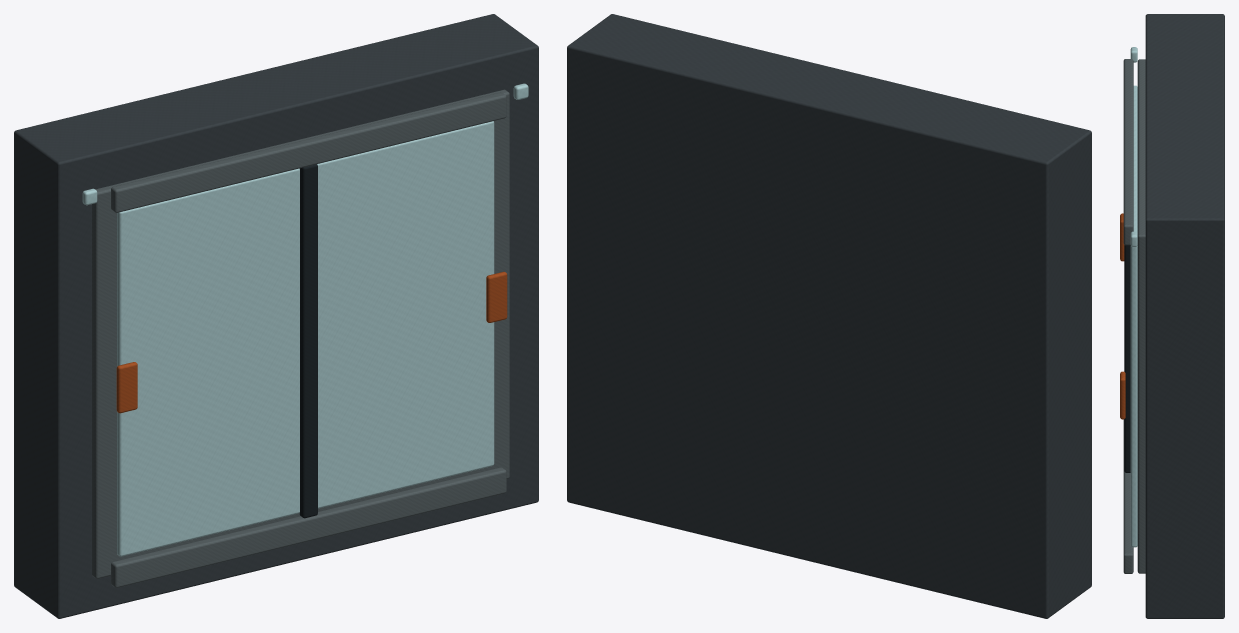
Rendered from ObservationWindow.fbx.
3 renders of one model, left to right at view 1: azimuth 30°, elevation 25°; view 2: azimuth 150°, elevation 25°; view 3: azimuth 270°, elevation 25°, orthographic. The views are drawn at different scales.
Parts seen in each view (by area): view 1: ObservationWindow_Mesh; view 2: ObservationWindow_Mesh; view 3: ObservationWindow_Mesh.
Part boxes in pixels (x1,y1,x2,y2): ObservationWindow_Mesh: [14, 14, 538, 618]; ObservationWindow_Mesh: [567, 14, 1091, 618]; ObservationWindow_Mesh: [1120, 14, 1224, 618].
Bounding box in the file's own units: 172 × 156 × 37.
Materials: 5 (5 with a texture image).
